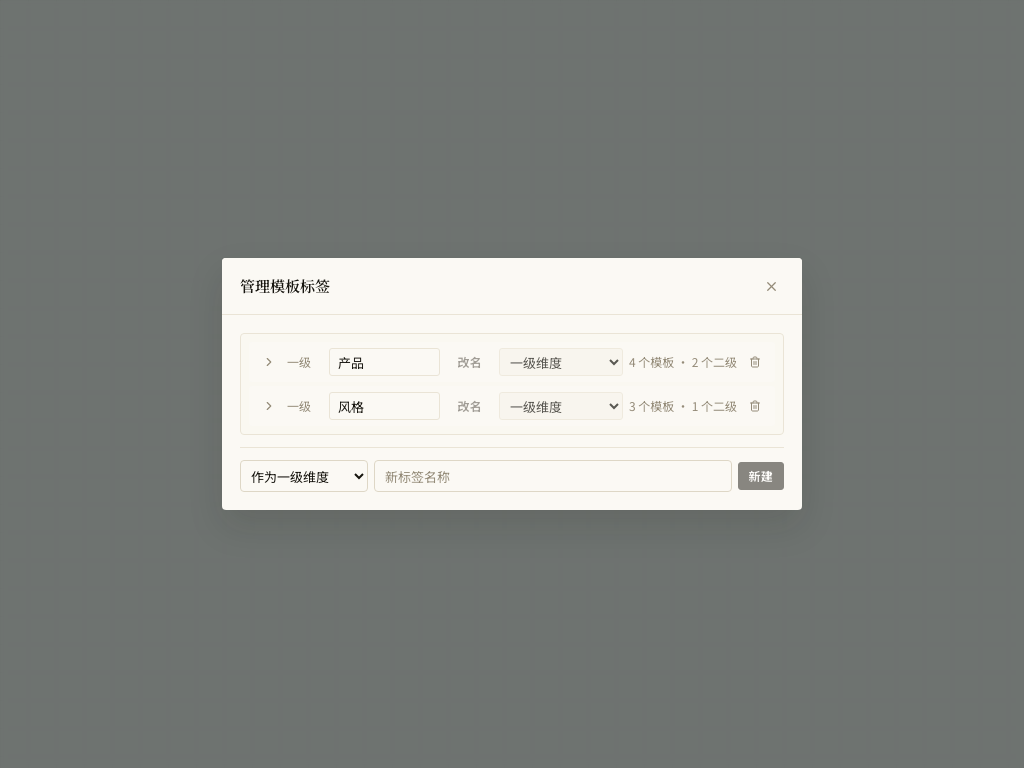
it: TemplateTagManager · 模板词表结构 › 删除两段式：先点头像只进入确认，确认按钮才真的删
Later steps or results of the test are not shown.
Click the button named "展开 产品": (269, 362) x1=257 y1=350 x2=281 y2=374
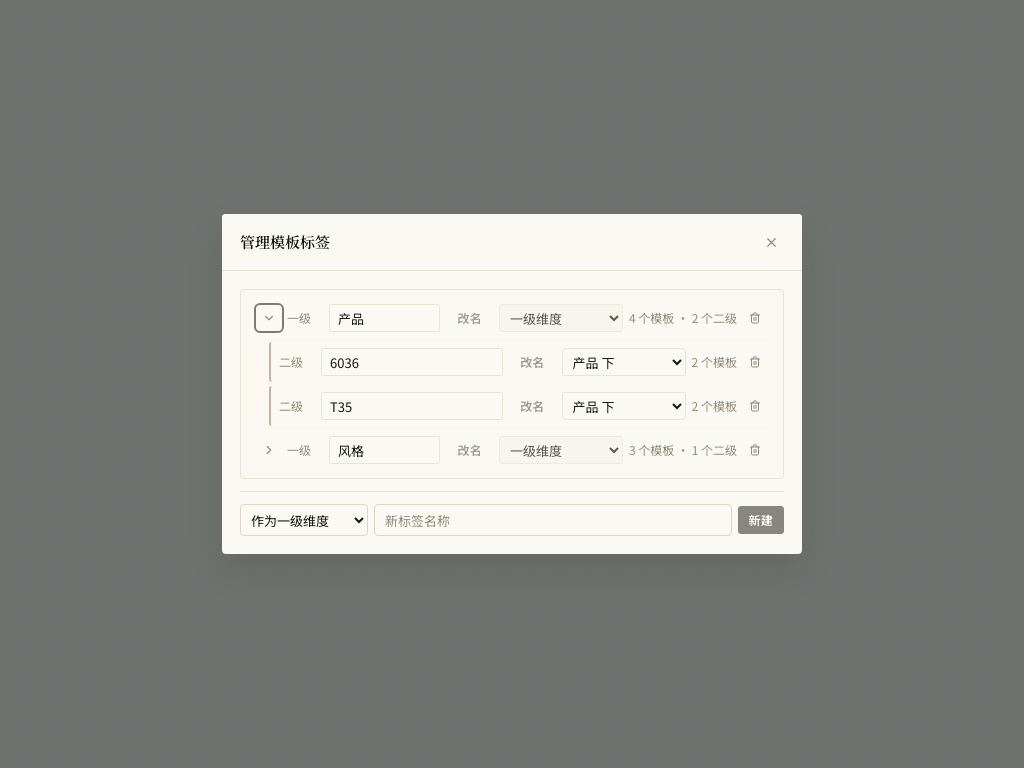
Click the button named "删除标签 T35": (755, 406) x1=743 y1=394 x2=767 y2=418
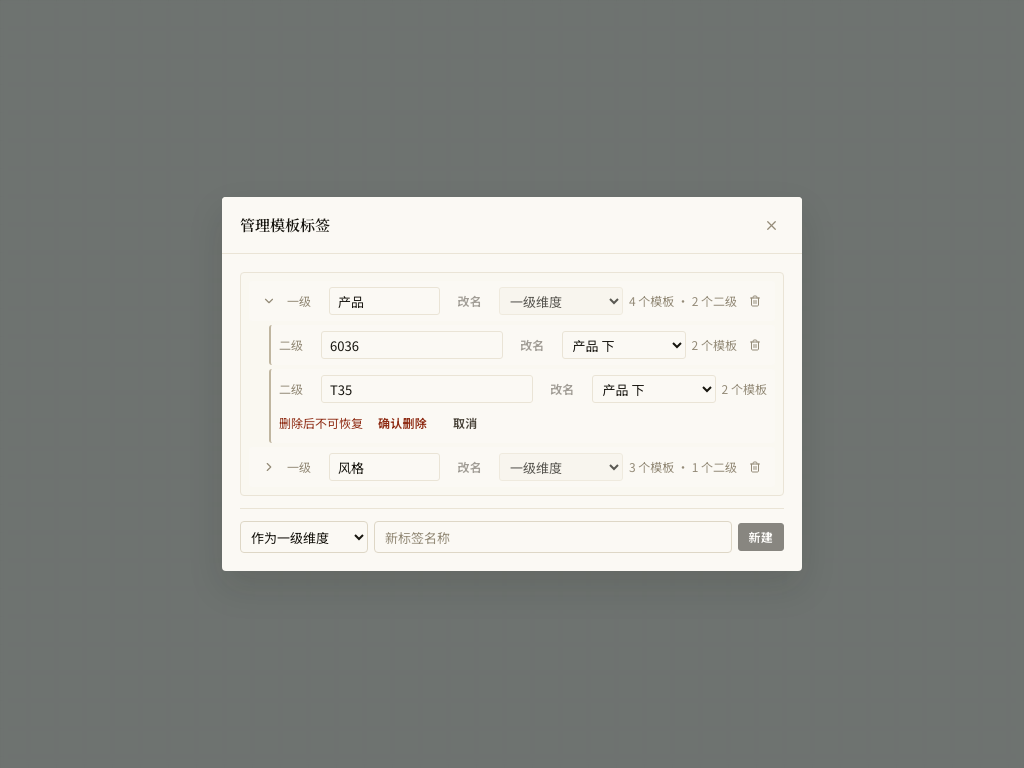
Result: the text "删除后不可恢复" is shown at x1=279 y1=414 x2=363 y2=432
